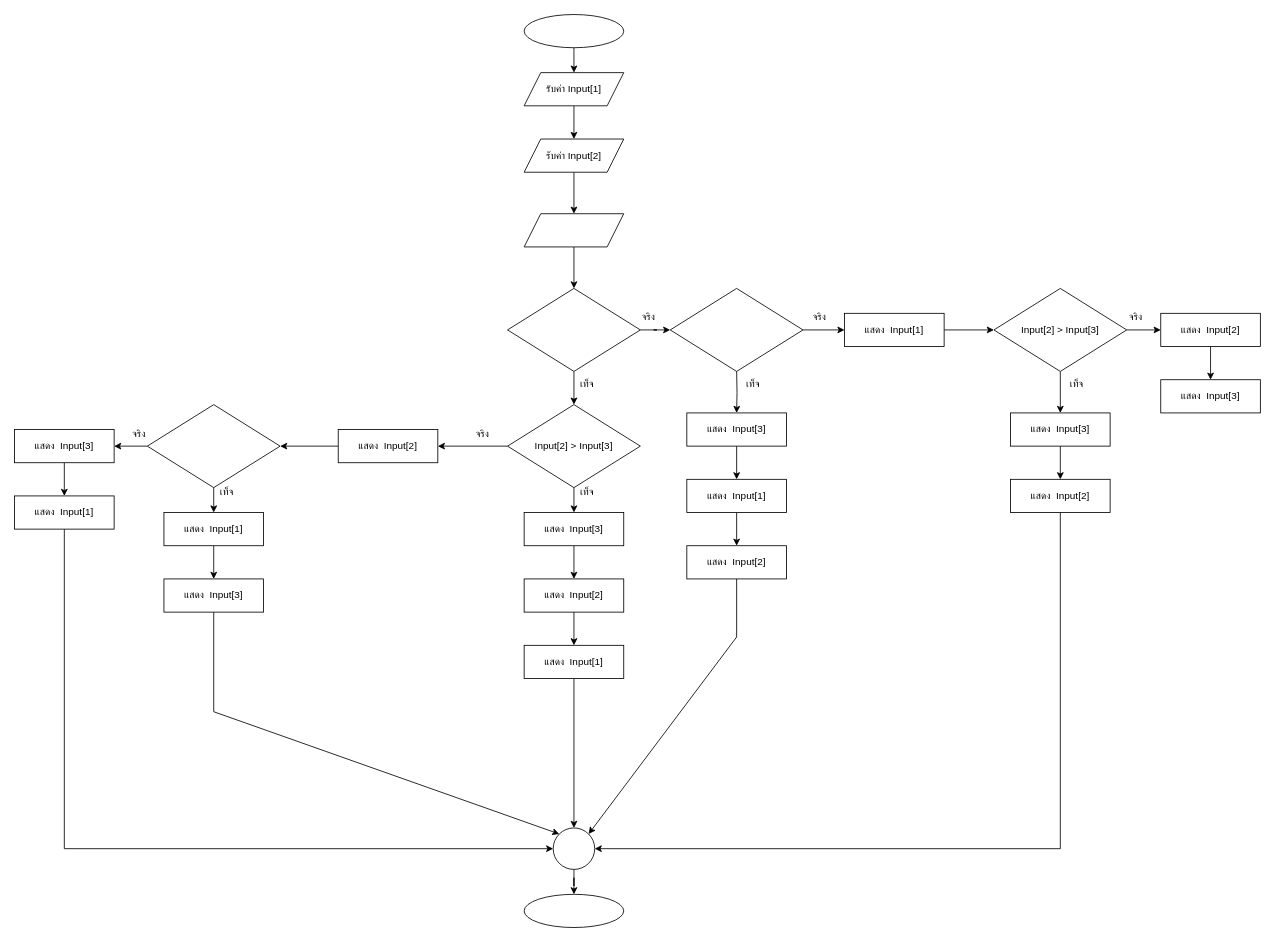
Some shapes in this 1275 by 942 pixel diagram are drawn without their labels. Here are the shapes that lost their labels. From the top down, the centre of each, then its label:
point 573,31: เริ่ม
point 573,230: รับค่า Input[3]
point 573,329: Input[1] > Input[2]
point 736,329: Input[1] > Input[3]
point 213,446: Input[3] > Input[1]
point 573,910: จบ
